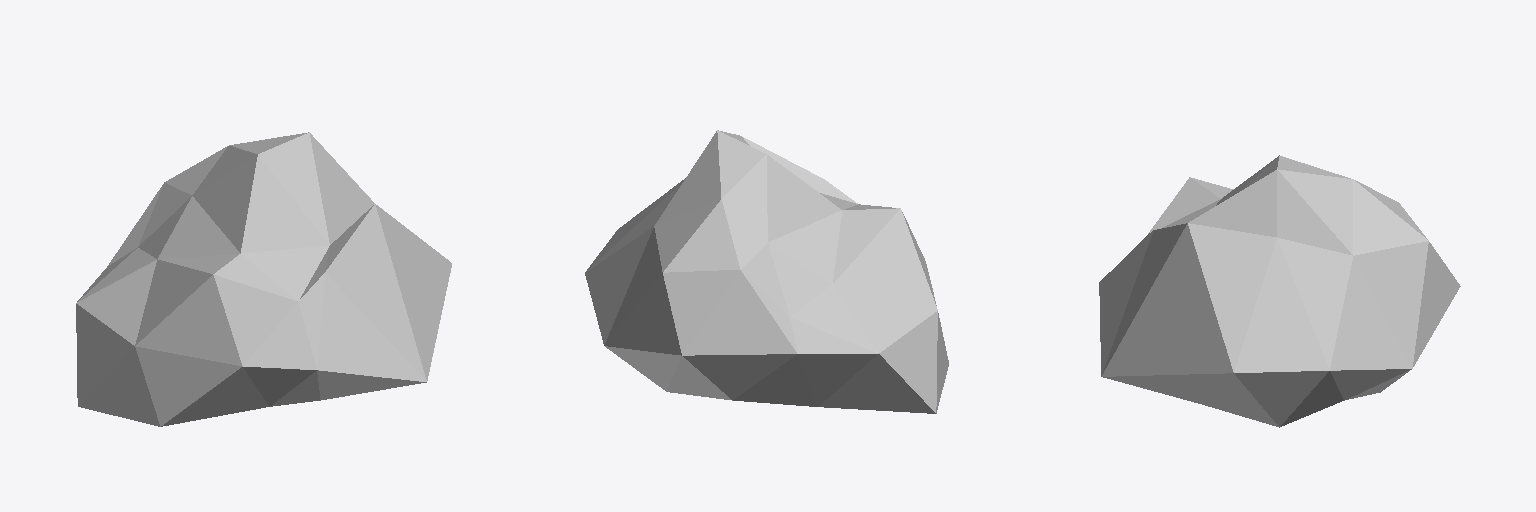
Rendered from rok.obj.
The picture shows the model from 3 angles: view 1: azimuth 30°, elevation 25°; view 2: azimuth 150°, elevation 25°; view 3: azimuth 270°, elevation 25°; orthographic projection.
Visible parts, largest first — view 1: Icosphere; view 2: Icosphere; view 3: Icosphere.
Boxes of the visible parts, <box> form: Icosphere: <box>76,132,451,426</box>; Icosphere: <box>585,130,948,413</box>; Icosphere: <box>1099,155,1460,427</box>.
Bounding box in the file's own units: 2.71 × 1.67 × 2.44.